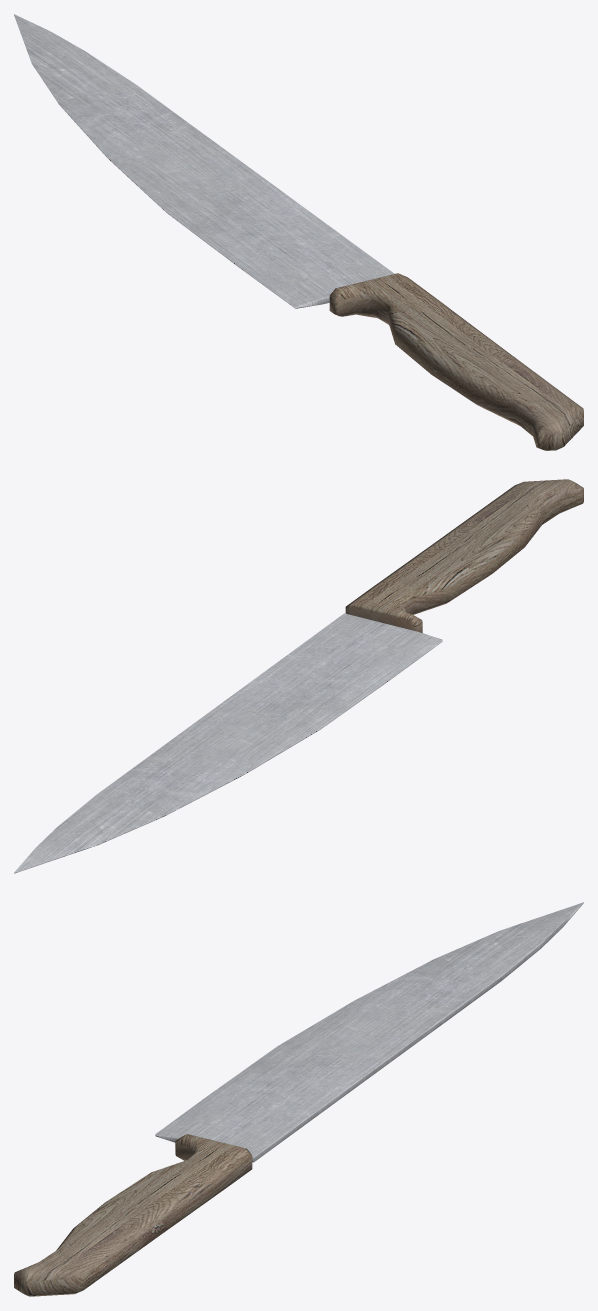
The model's file is SM_KitchenwareF.FBX.
3 views of the same model, one above another, from view 1: azimuth 30°, elevation 25°; view 2: azimuth 150°, elevation 25°; view 3: azimuth 330°, elevation 25° (orthographic). The views are drawn at different scales.
Visible parts, largest first — view 1: SM_KitchenwareF; view 2: SM_KitchenwareF; view 3: SM_KitchenwareF.
Boxes of the visible parts, x1,y1,x2,y2 form: SM_KitchenwareF: (14,14,583,450); SM_KitchenwareF: (14,479,583,873); SM_KitchenwareF: (14,902,583,1296).
Bounding box in the file's own units: 3.27 × 0.7769 × 29.96.
